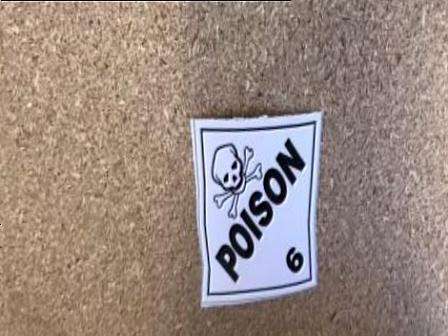poison: (190, 104, 323, 307)
